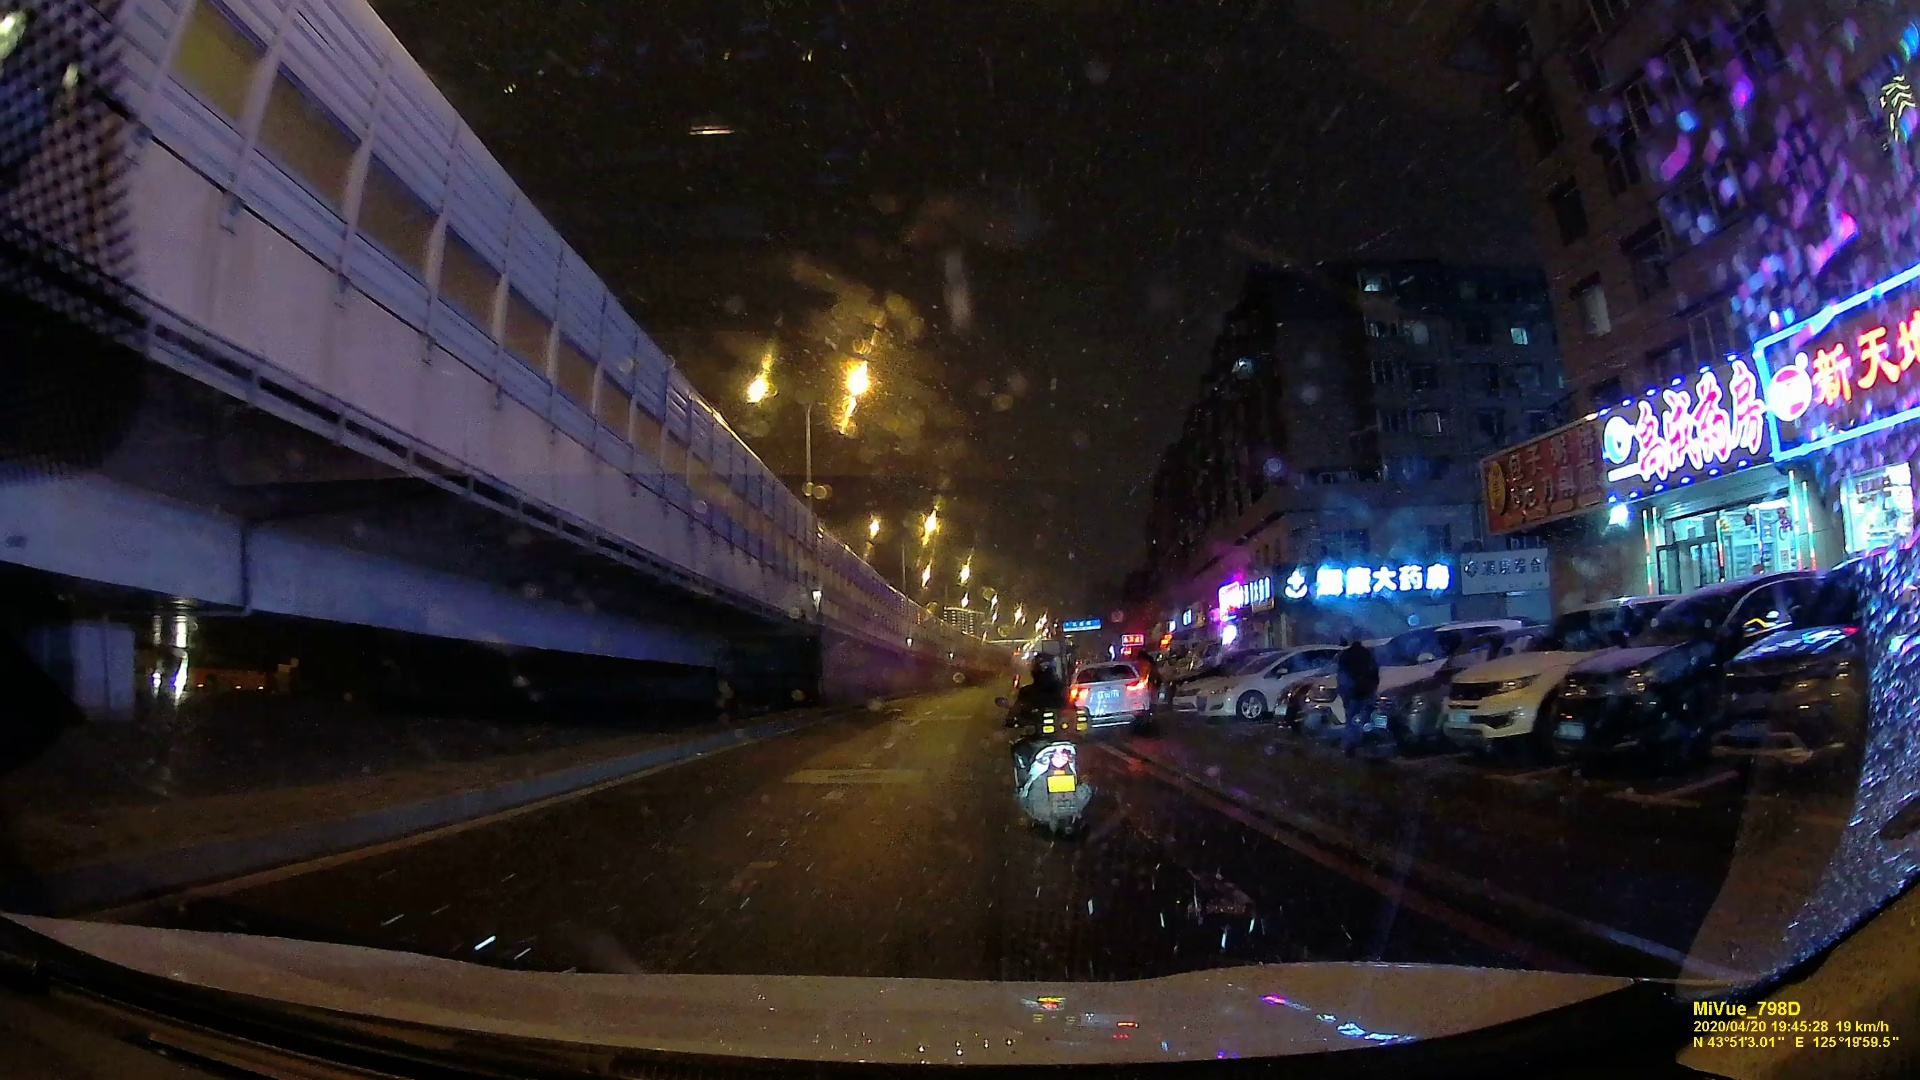person: (1330, 622, 1388, 754), (1010, 655, 1083, 746)
vehicle: (1720, 551, 1873, 775), (1559, 583, 1714, 769), (1070, 662, 1155, 723)
